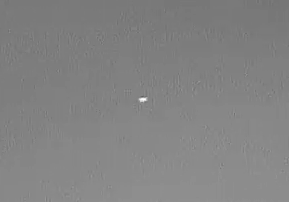Target: (140, 98, 146, 102)
